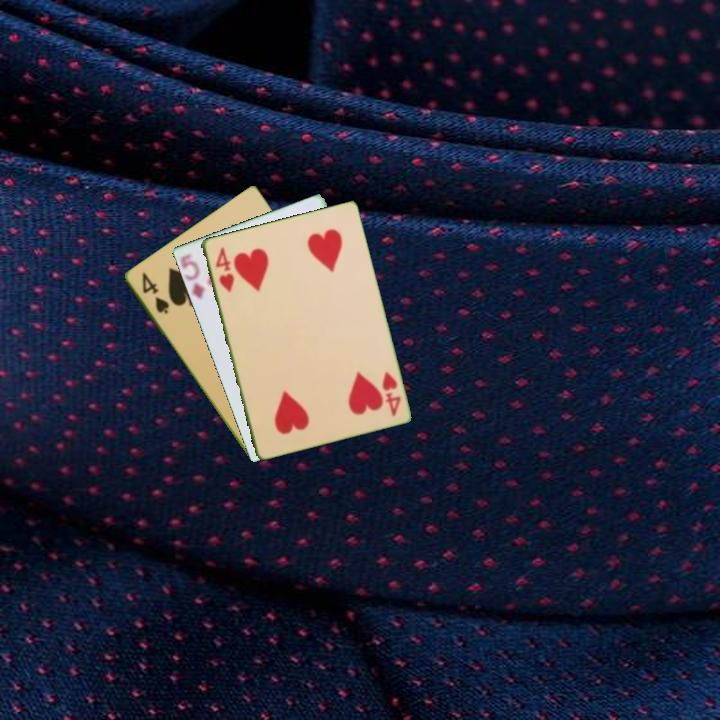4h: (211, 243, 237, 295), (378, 368, 403, 419)
4s: (138, 269, 172, 317)
5d: (179, 252, 207, 303)
